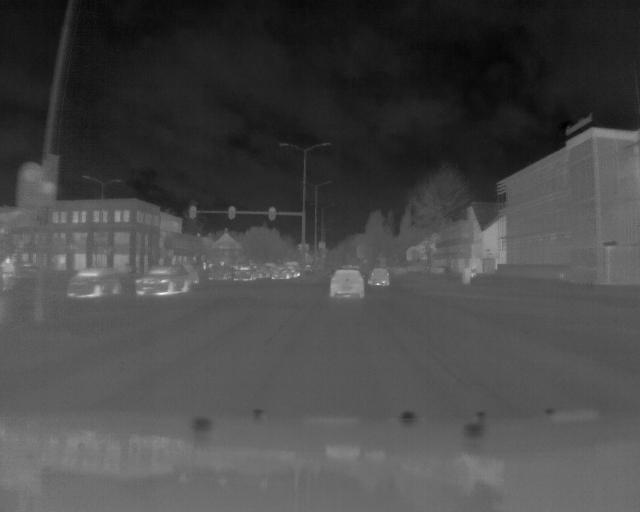car: (65, 267, 123, 301), (133, 263, 194, 295), (328, 267, 366, 299), (366, 266, 395, 288)
